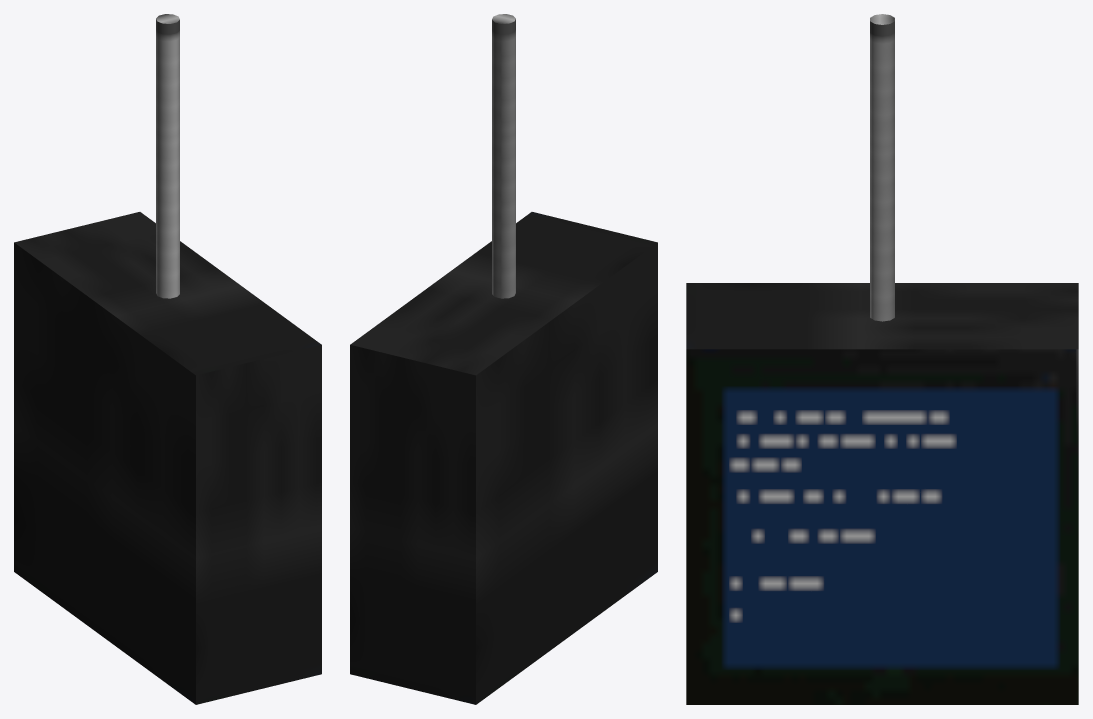
Rendered from info_panel.FBX.
The picture shows the model from 3 angles, left to right: view 1: azimuth 30°, elevation 25°; view 2: azimuth 150°, elevation 25°; view 3: azimuth 270°, elevation 25°; orthographic projection. The views are drawn at different scales.
Parts seen in each view (by area): view 1: info_panel; view 2: info_panel; view 3: info_panel.
Part boxes in pixels (x1,y1,x2,y2): info_panel: (14,14,321,704); info_panel: (350,14,657,704); info_panel: (686,14,1078,704).
Bounding box in the file's own units: 36 × 90 × 165.
Materials: 1 (1 with a texture image).
